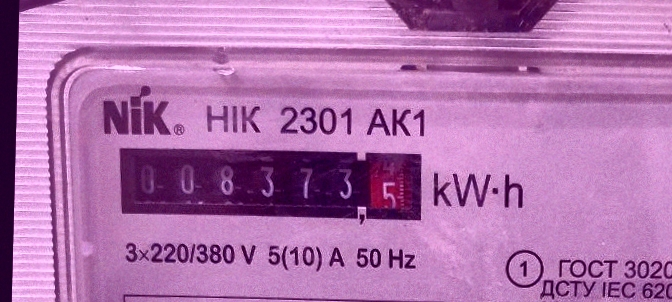0: (136, 160, 157, 196), (177, 160, 196, 196)
3: (333, 164, 356, 201), (255, 162, 277, 199)
4: (379, 157, 398, 177)
5: (379, 178, 399, 209)
7: (295, 162, 314, 201)
8: (215, 161, 237, 197)
screen: (112, 138, 431, 233)
